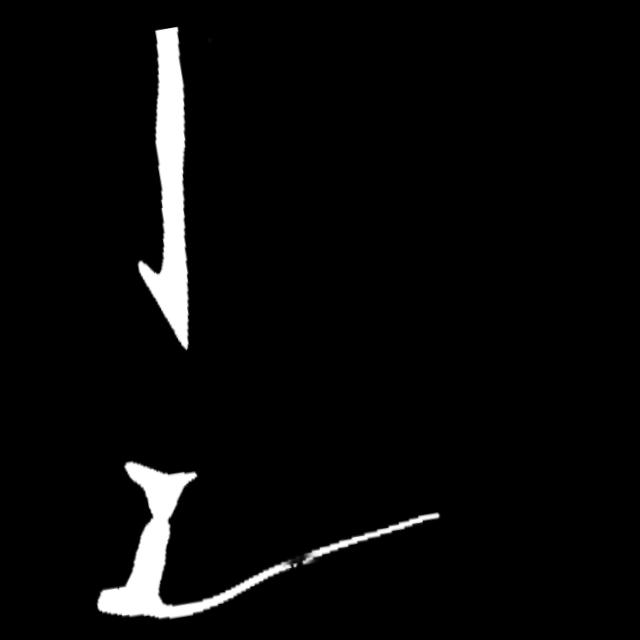inf: (283, 542, 322, 573)
